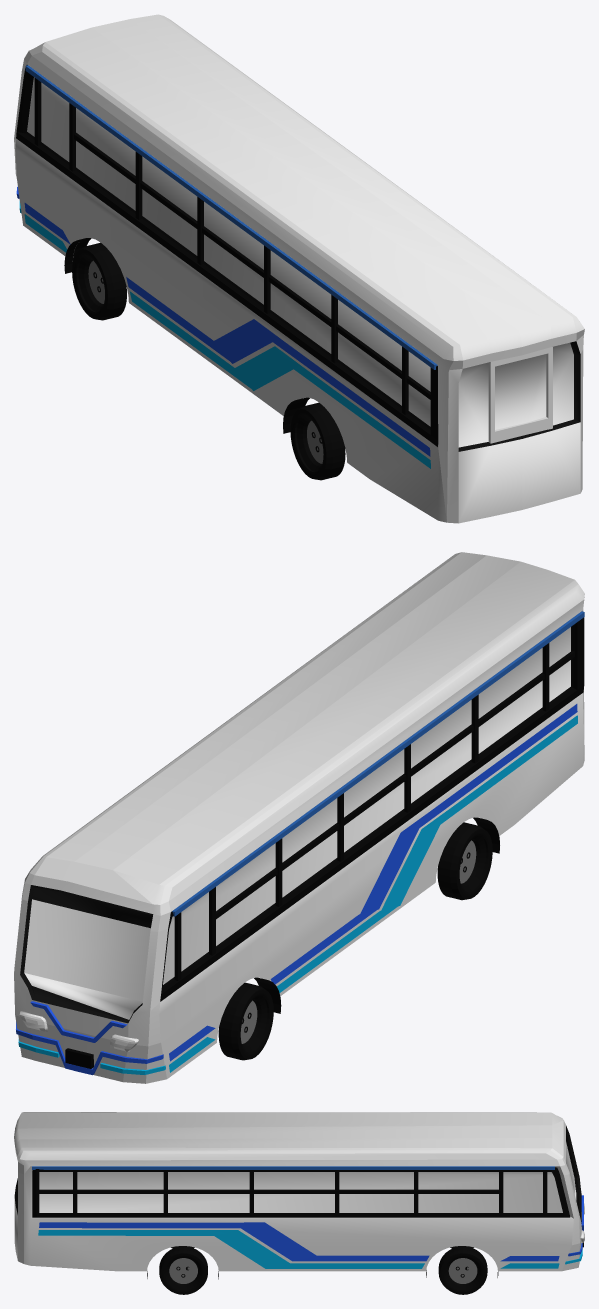
Rendered from sf_coach.glb.
3 renders of one model, top to bottom at view 1: azimuth 30°, elevation 25°; view 2: azimuth 150°, elevation 25°; view 3: azimuth 270°, elevation 25°, orthographic. The views are drawn at different scales.
Visible parts, largest first — view 1: Cube, Cube.001, Cube.031, Wheel_3, Wheel_2, Cube.008, Plane.002, Plane.005, Plane.001, Plane.006, Plane.004, Plane (+1 smaller); view 2: Cube, Cube.001, Cube.031, Wheel_3, Wheel_2, Cube.008, Plane.002, Plane.005, Plane.001, Plane.006, Plane.004, Plane (+1 smaller); view 3: Cube, Cube.010, Cube.017, Cube.032, Wheel_1, Wheel_0, Plane.010, Plane.009, Plane.013, Plane.014, Plane.012, Plane.008 (+2 smaller).
Boxes of the visible parts, x1,y1,x2,y2 form: Cube: (14,14,584,523); Cube.001: (16,65,438,446); Cube.031: (25,65,437,369); Wheel_3: (290,402,345,480); Wheel_2: (72,242,126,320); Cube.008: (74,132,430,399); Plane.002: (254,319,430,456); Plane.005: (234,346,300,390); Plane.001: (213,319,279,363); Plane.006: (275,347,430,468); Plane.004: (129,291,250,388); Plane: (126,277,230,361); Cube: (14,552,584,1083); Cube.001: (160,617,584,1001); Cube.031: (172,611,584,916); Wheel_3: (437,822,492,900); Wheel_2: (218,982,273,1060); Cube.008: (216,651,574,919); Plane.002: (401,704,577,832); Plane.005: (381,811,446,911); Plane.001: (360,814,426,914); Plane.006: (422,715,577,829); Plane.004: (277,906,397,992); Plane: (270,910,376,984); Cube: (14,1112,581,1271); Cube.010: (32,1167,570,1217); Cube.017: (39,1189,501,1193); Cube.032: (32,1166,554,1169); Wheel_1: (438,1246,487,1294); Wheel_0: (159,1246,207,1294); Plane.010: (39,1222,252,1228); Plane.009: (234,1222,316,1261); Plane.013: (205,1230,289,1268); Plane.014: (38,1230,225,1235); Plane.012: (266,1263,424,1268); Plane.008: (293,1255,429,1261).
Bounding box in the file's own units: 2.55 × 3.3 × 12.
